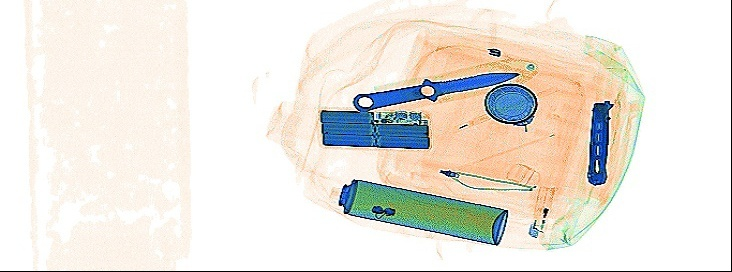knife: (352, 57, 540, 112), (584, 96, 615, 186)
lighter: (524, 183, 557, 241)
powerbank: (313, 101, 433, 151)
pressure: (324, 173, 507, 247)
